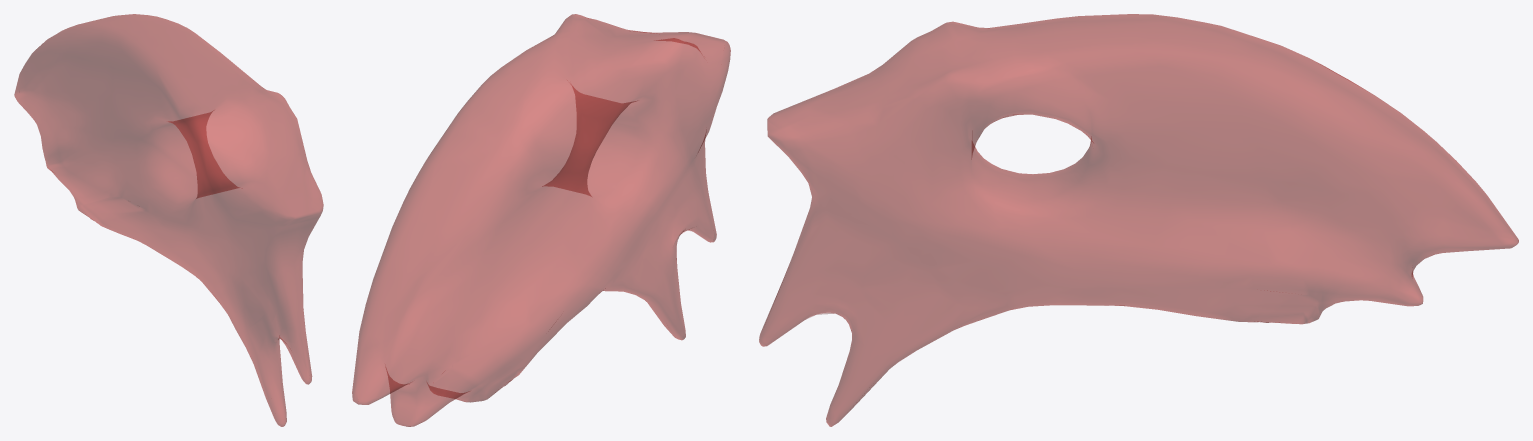
File: nervoso-third-ventricle.glb
3 views of the same model, side by side, from view 1: azimuth 30°, elevation 25°; view 2: azimuth 150°, elevation 25°; view 3: azimuth 270°, elevation 25° (orthographic). The views are drawn at different scales.
Parts seen in each view (by area): view 1: Third ventricle; view 2: Third ventricle; view 3: Third ventricle.
Boxes of the visible parts, box(x1,y1,x2,y2) form: Third ventricle: box(14, 14, 323, 426); Third ventricle: box(352, 14, 730, 426); Third ventricle: box(759, 14, 1518, 426).
Size of the model in its own units: 0.00757 by 0.0224 by 0.0389.
